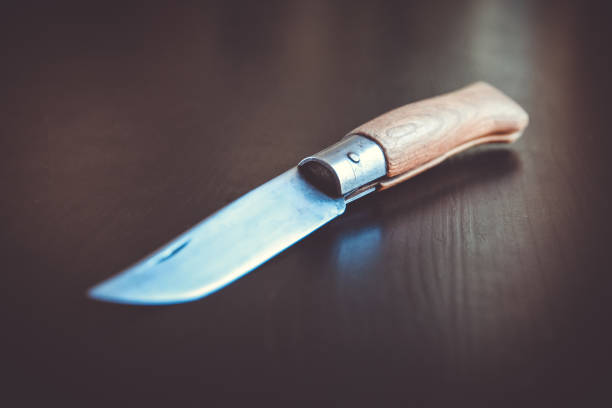knife: (82, 77, 532, 307)
